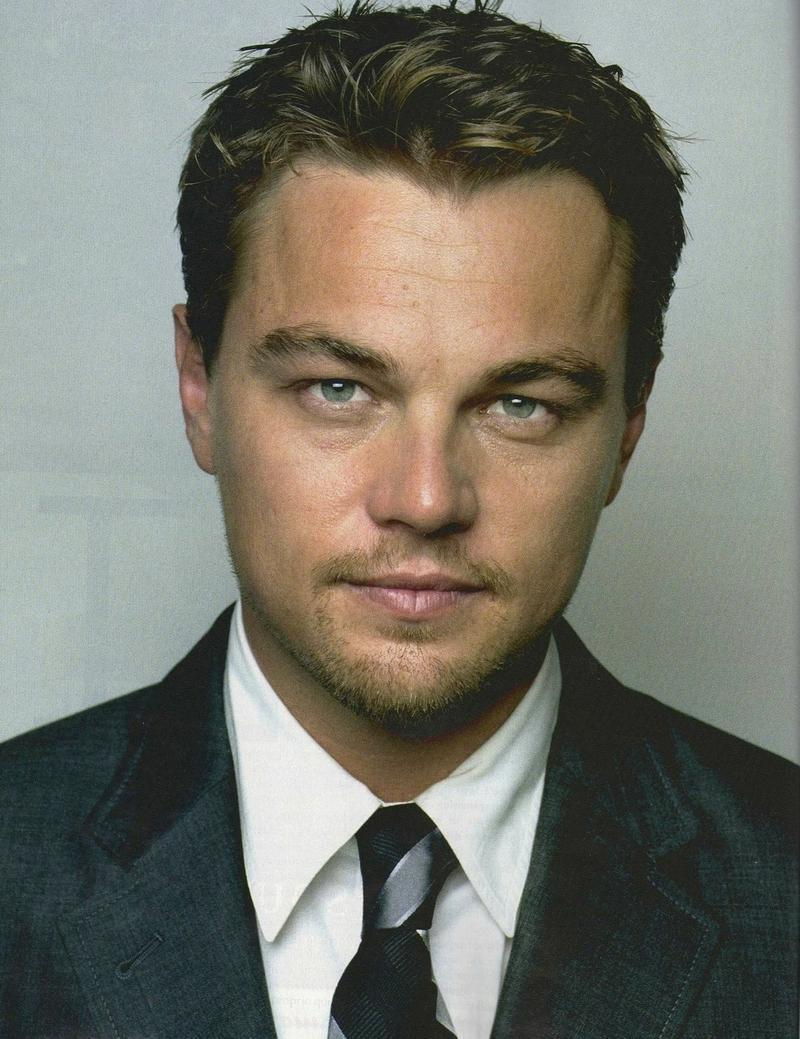Sober: (228, 168, 612, 694)
